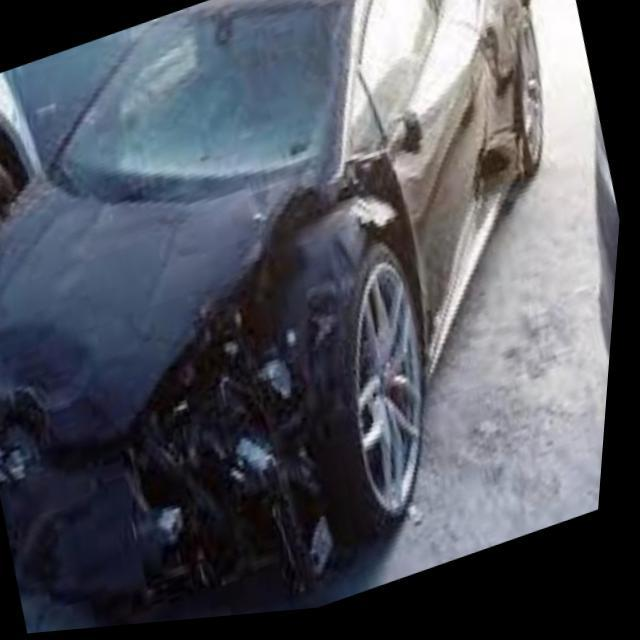no part: (0, 145, 437, 605)
